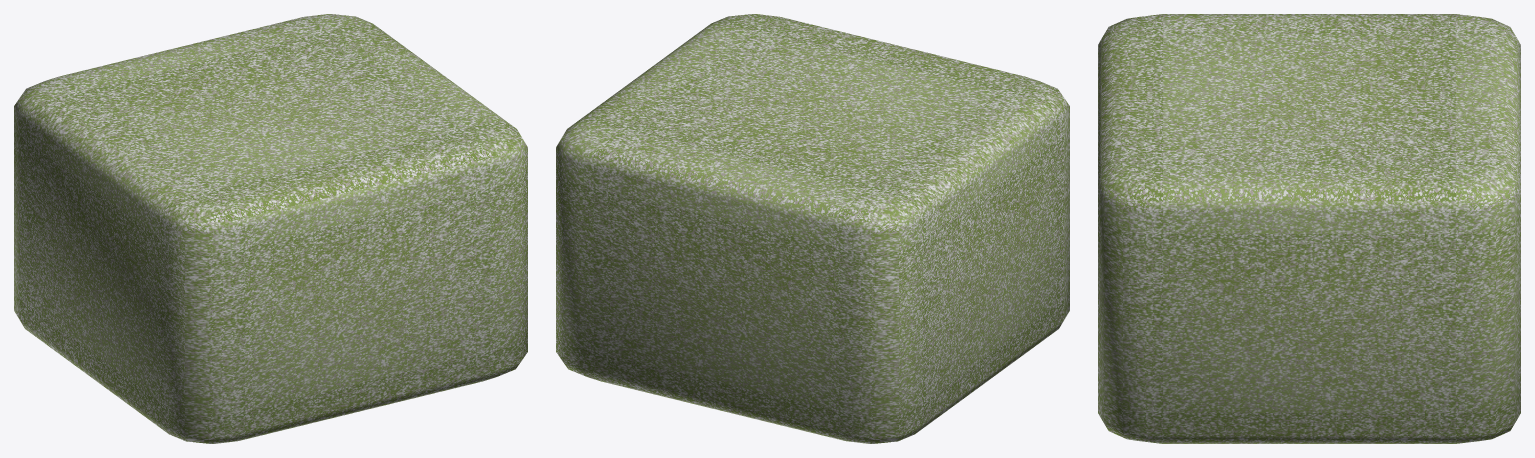
File: Gummy Cube.fbx
3 views of the same model, side by side, from view 1: azimuth 30°, elevation 25°; view 2: azimuth 150°, elevation 25°; view 3: azimuth 270°, elevation 25° (orthographic). The views are drawn at different scales.
Parts seen in each view (by area): view 1: Gummy Cube; view 2: Gummy Cube; view 3: Gummy Cube.
Part boxes in pixels (box(x1,y1,x2,y2)): Gummy Cube: box(14, 14, 527, 443); Gummy Cube: box(556, 14, 1069, 443); Gummy Cube: box(1098, 14, 1520, 443).
Bounding box in the file's own units: 0.0758 × 0.0484 × 0.0717.
